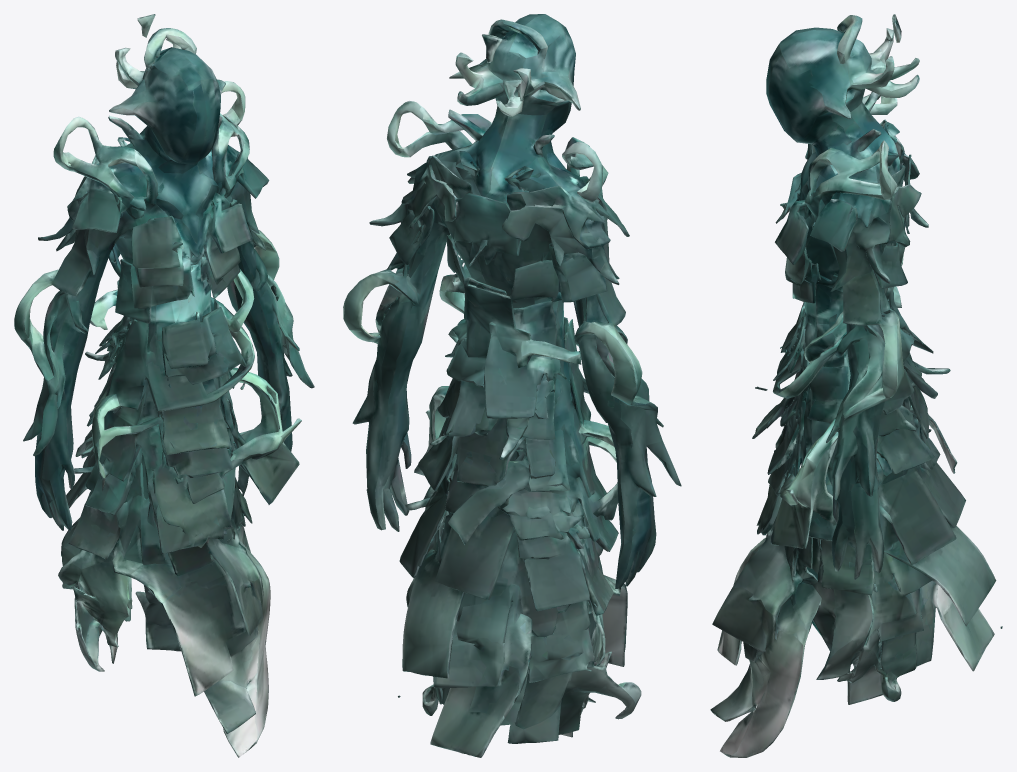
File: entity-n1.glb
3 views of the same model, side by side, from view 1: azimuth 30°, elevation 25°; view 2: azimuth 150°, elevation 25°; view 3: azimuth 270°, elevation 25° (orthographic). The views are drawn at different scales.
Parts seen in each view (by area): view 1: geometry_0; view 2: geometry_0; view 3: geometry_0.
Boxes of the visible parts, left/top/right/bottom form: geometry_0: left=14, top=14, right=314, bottom=757; geometry_0: left=343, top=14, right=681, bottom=757; geometry_0: left=710, top=14, right=1002, bottom=757.
Bounding box in the file's own units: 0.9452 × 2.2 × 0.8008.
Materials: 1 (1 with a texture image).
